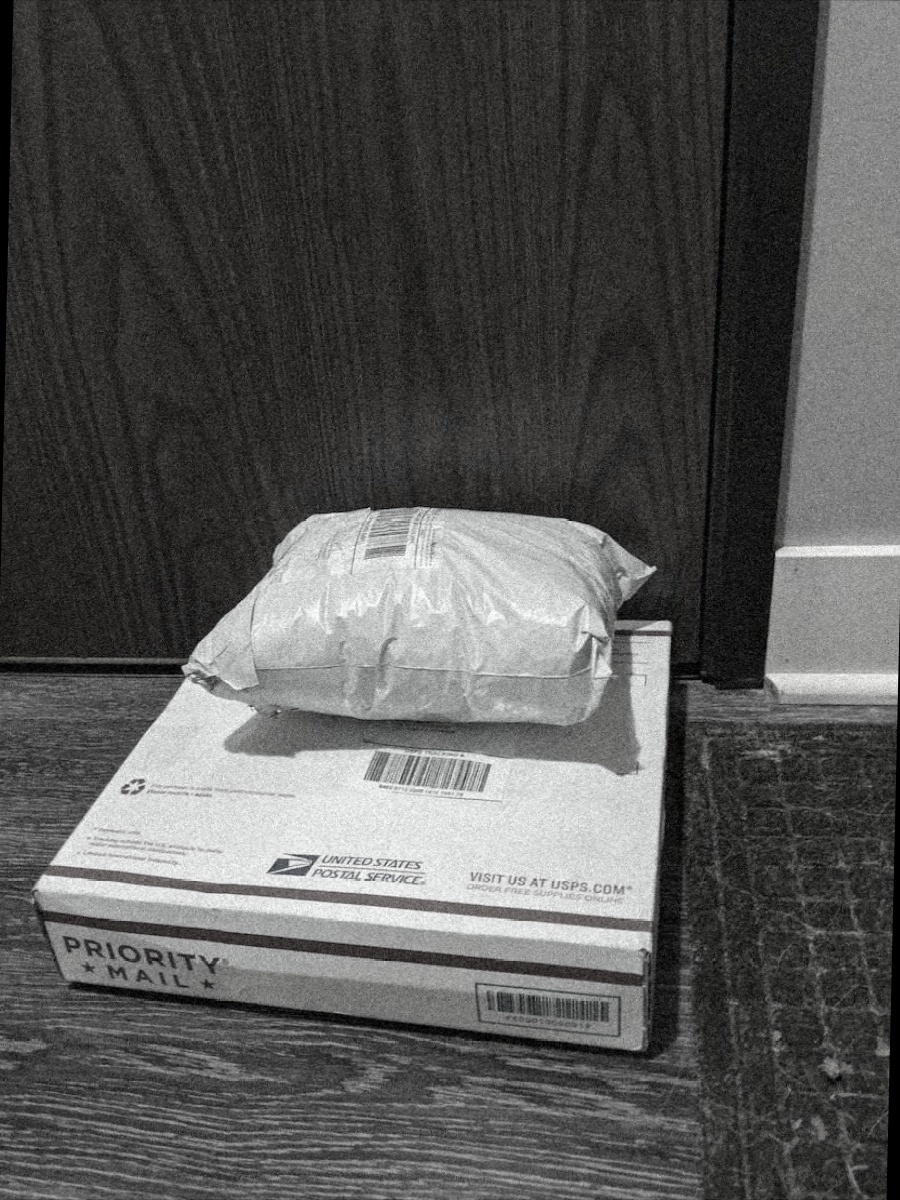good-parcel: (24, 605, 749, 1068), (177, 480, 654, 737)
